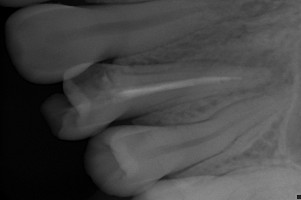Furcation Involvement: (240, 49, 295, 94)
